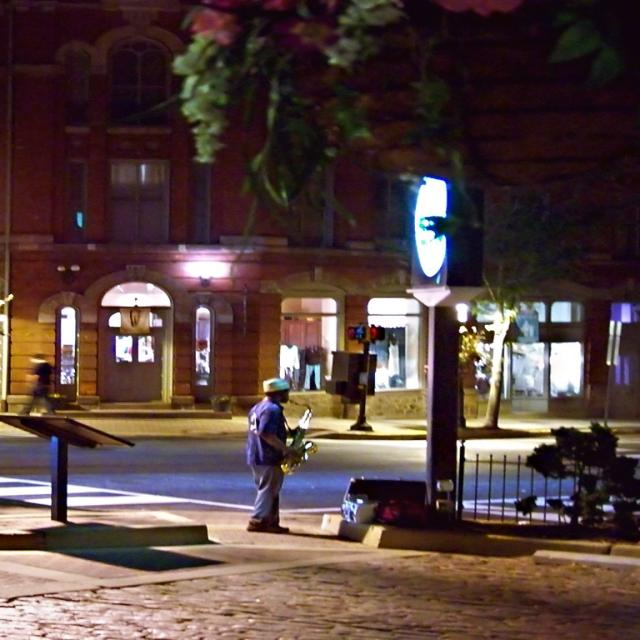saxophone: (277, 398, 325, 478)
